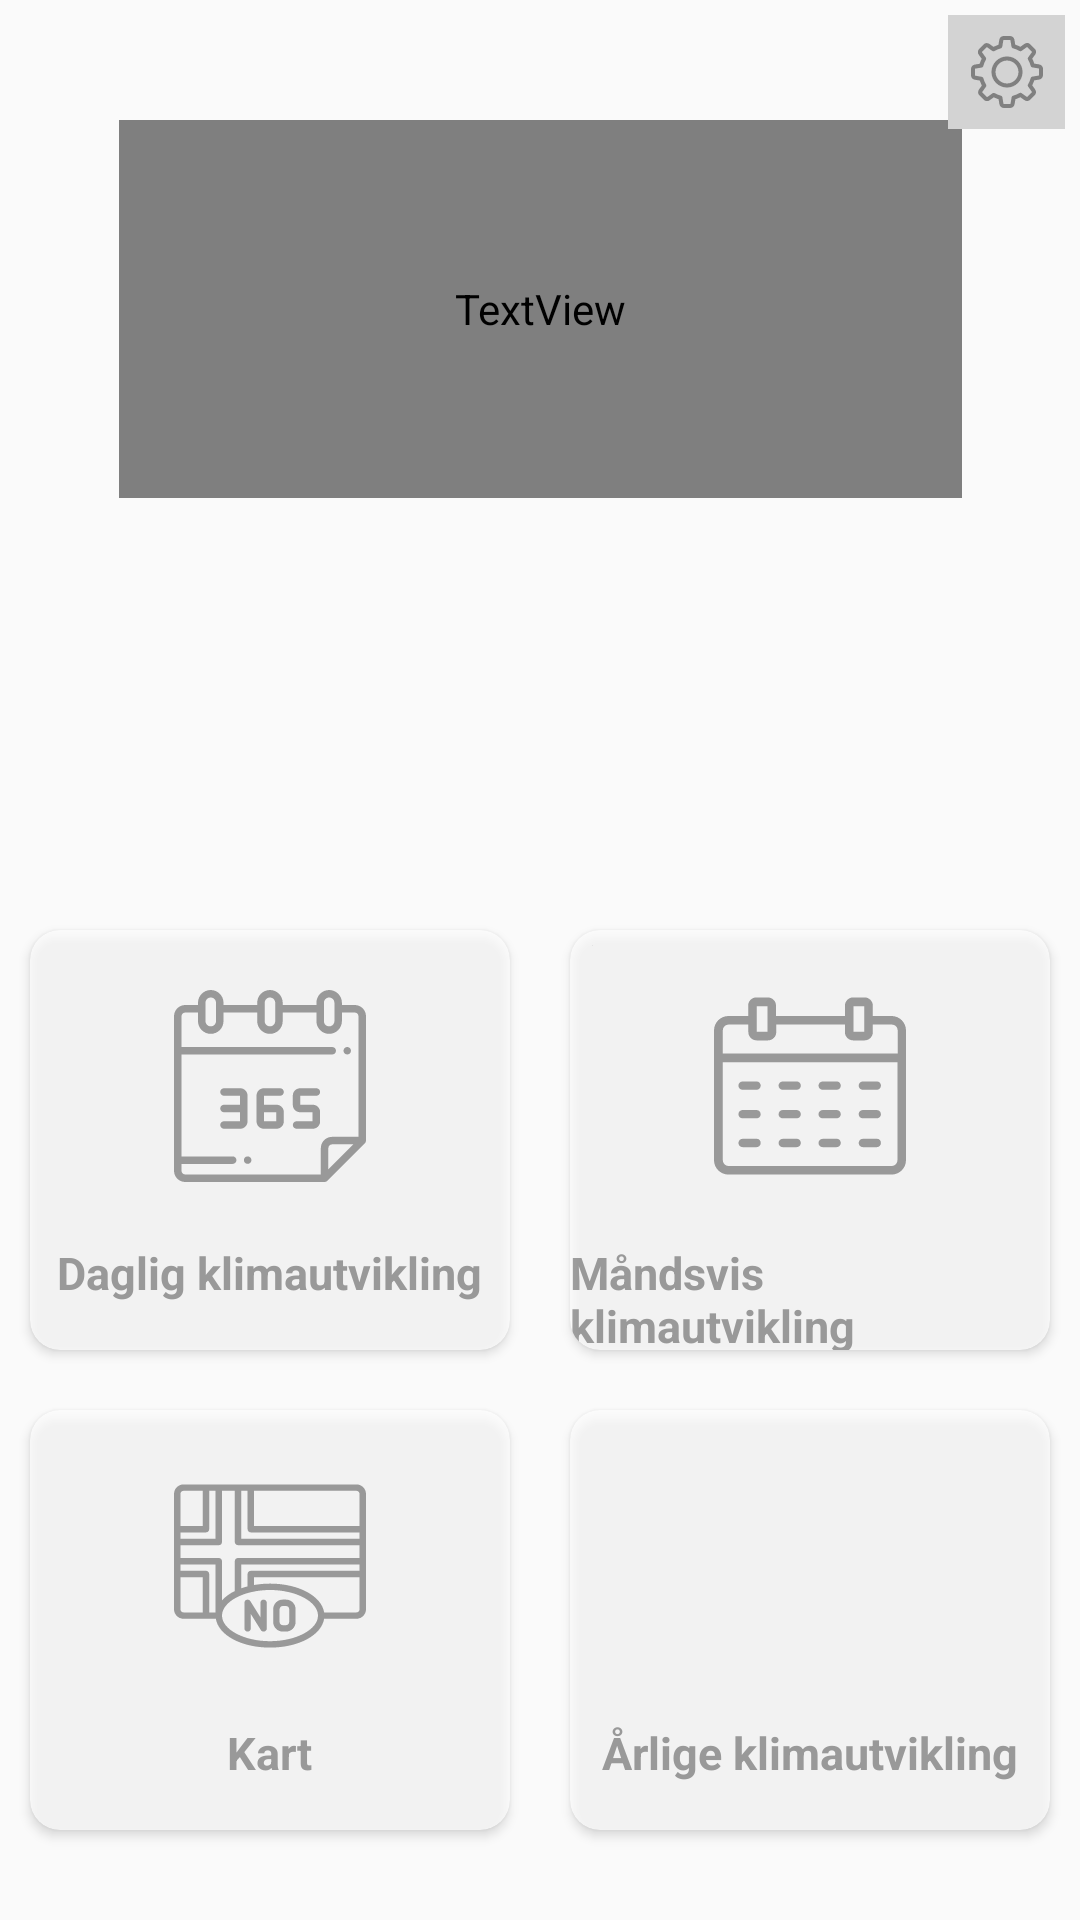

Point at icon controls on the screen. Image size 1080px×1920px, points as point (x, y).
calendar: point (270, 1086)
calendar monthly: point (810, 1086)
norway flag: point (270, 1566)
settings: point (1006, 72)
